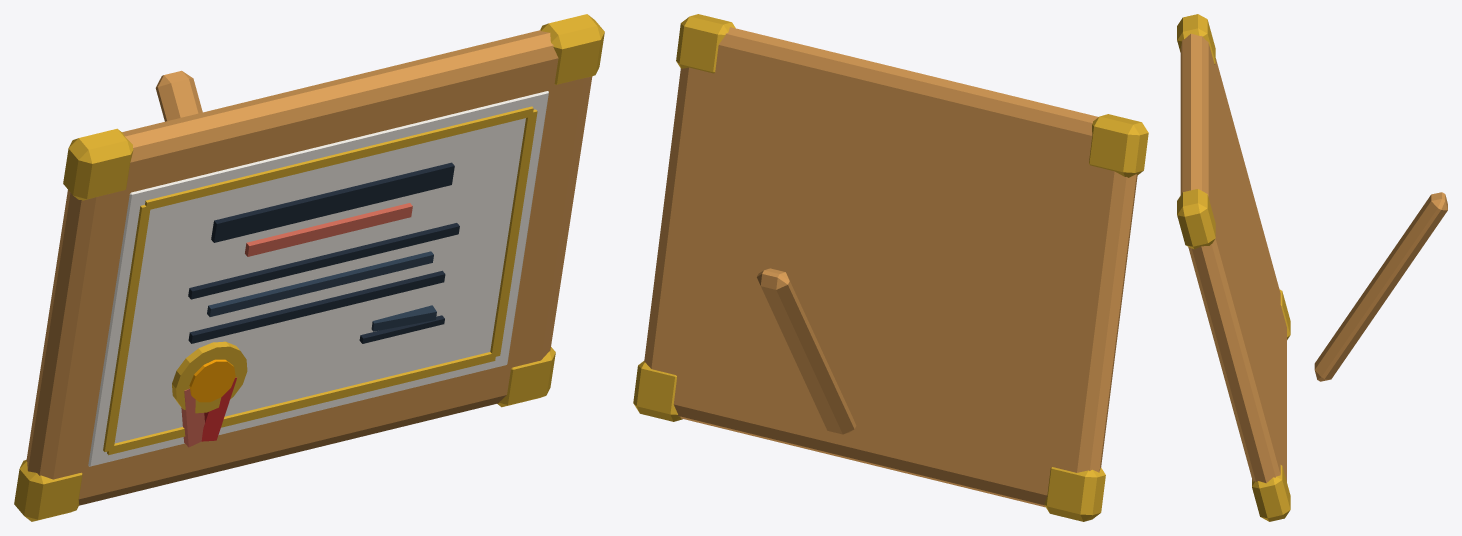
Rendered from Collectible_OldCertificate.glb.
3 views of the same model, side by side, from view 1: azimuth 30°, elevation 25°; view 2: azimuth 150°, elevation 25°; view 3: azimuth 270°, elevation 25° (orthographic). The views are drawn at different scales.
Parts seen in each view (by area): view 1: Collectible_OldCertificate; view 2: Collectible_OldCertificate; view 3: Collectible_OldCertificate.
Part boxes in pixels (x1=…): Collectible_OldCertificate: x1=14, y1=14, x2=604, y2=521; Collectible_OldCertificate: x1=633, y1=14, x2=1148, y2=521; Collectible_OldCertificate: x1=1177, y1=14, x2=1447, y2=521.
Bounding box in the file's own units: 0.354 × 0.2688 × 0.2069.
